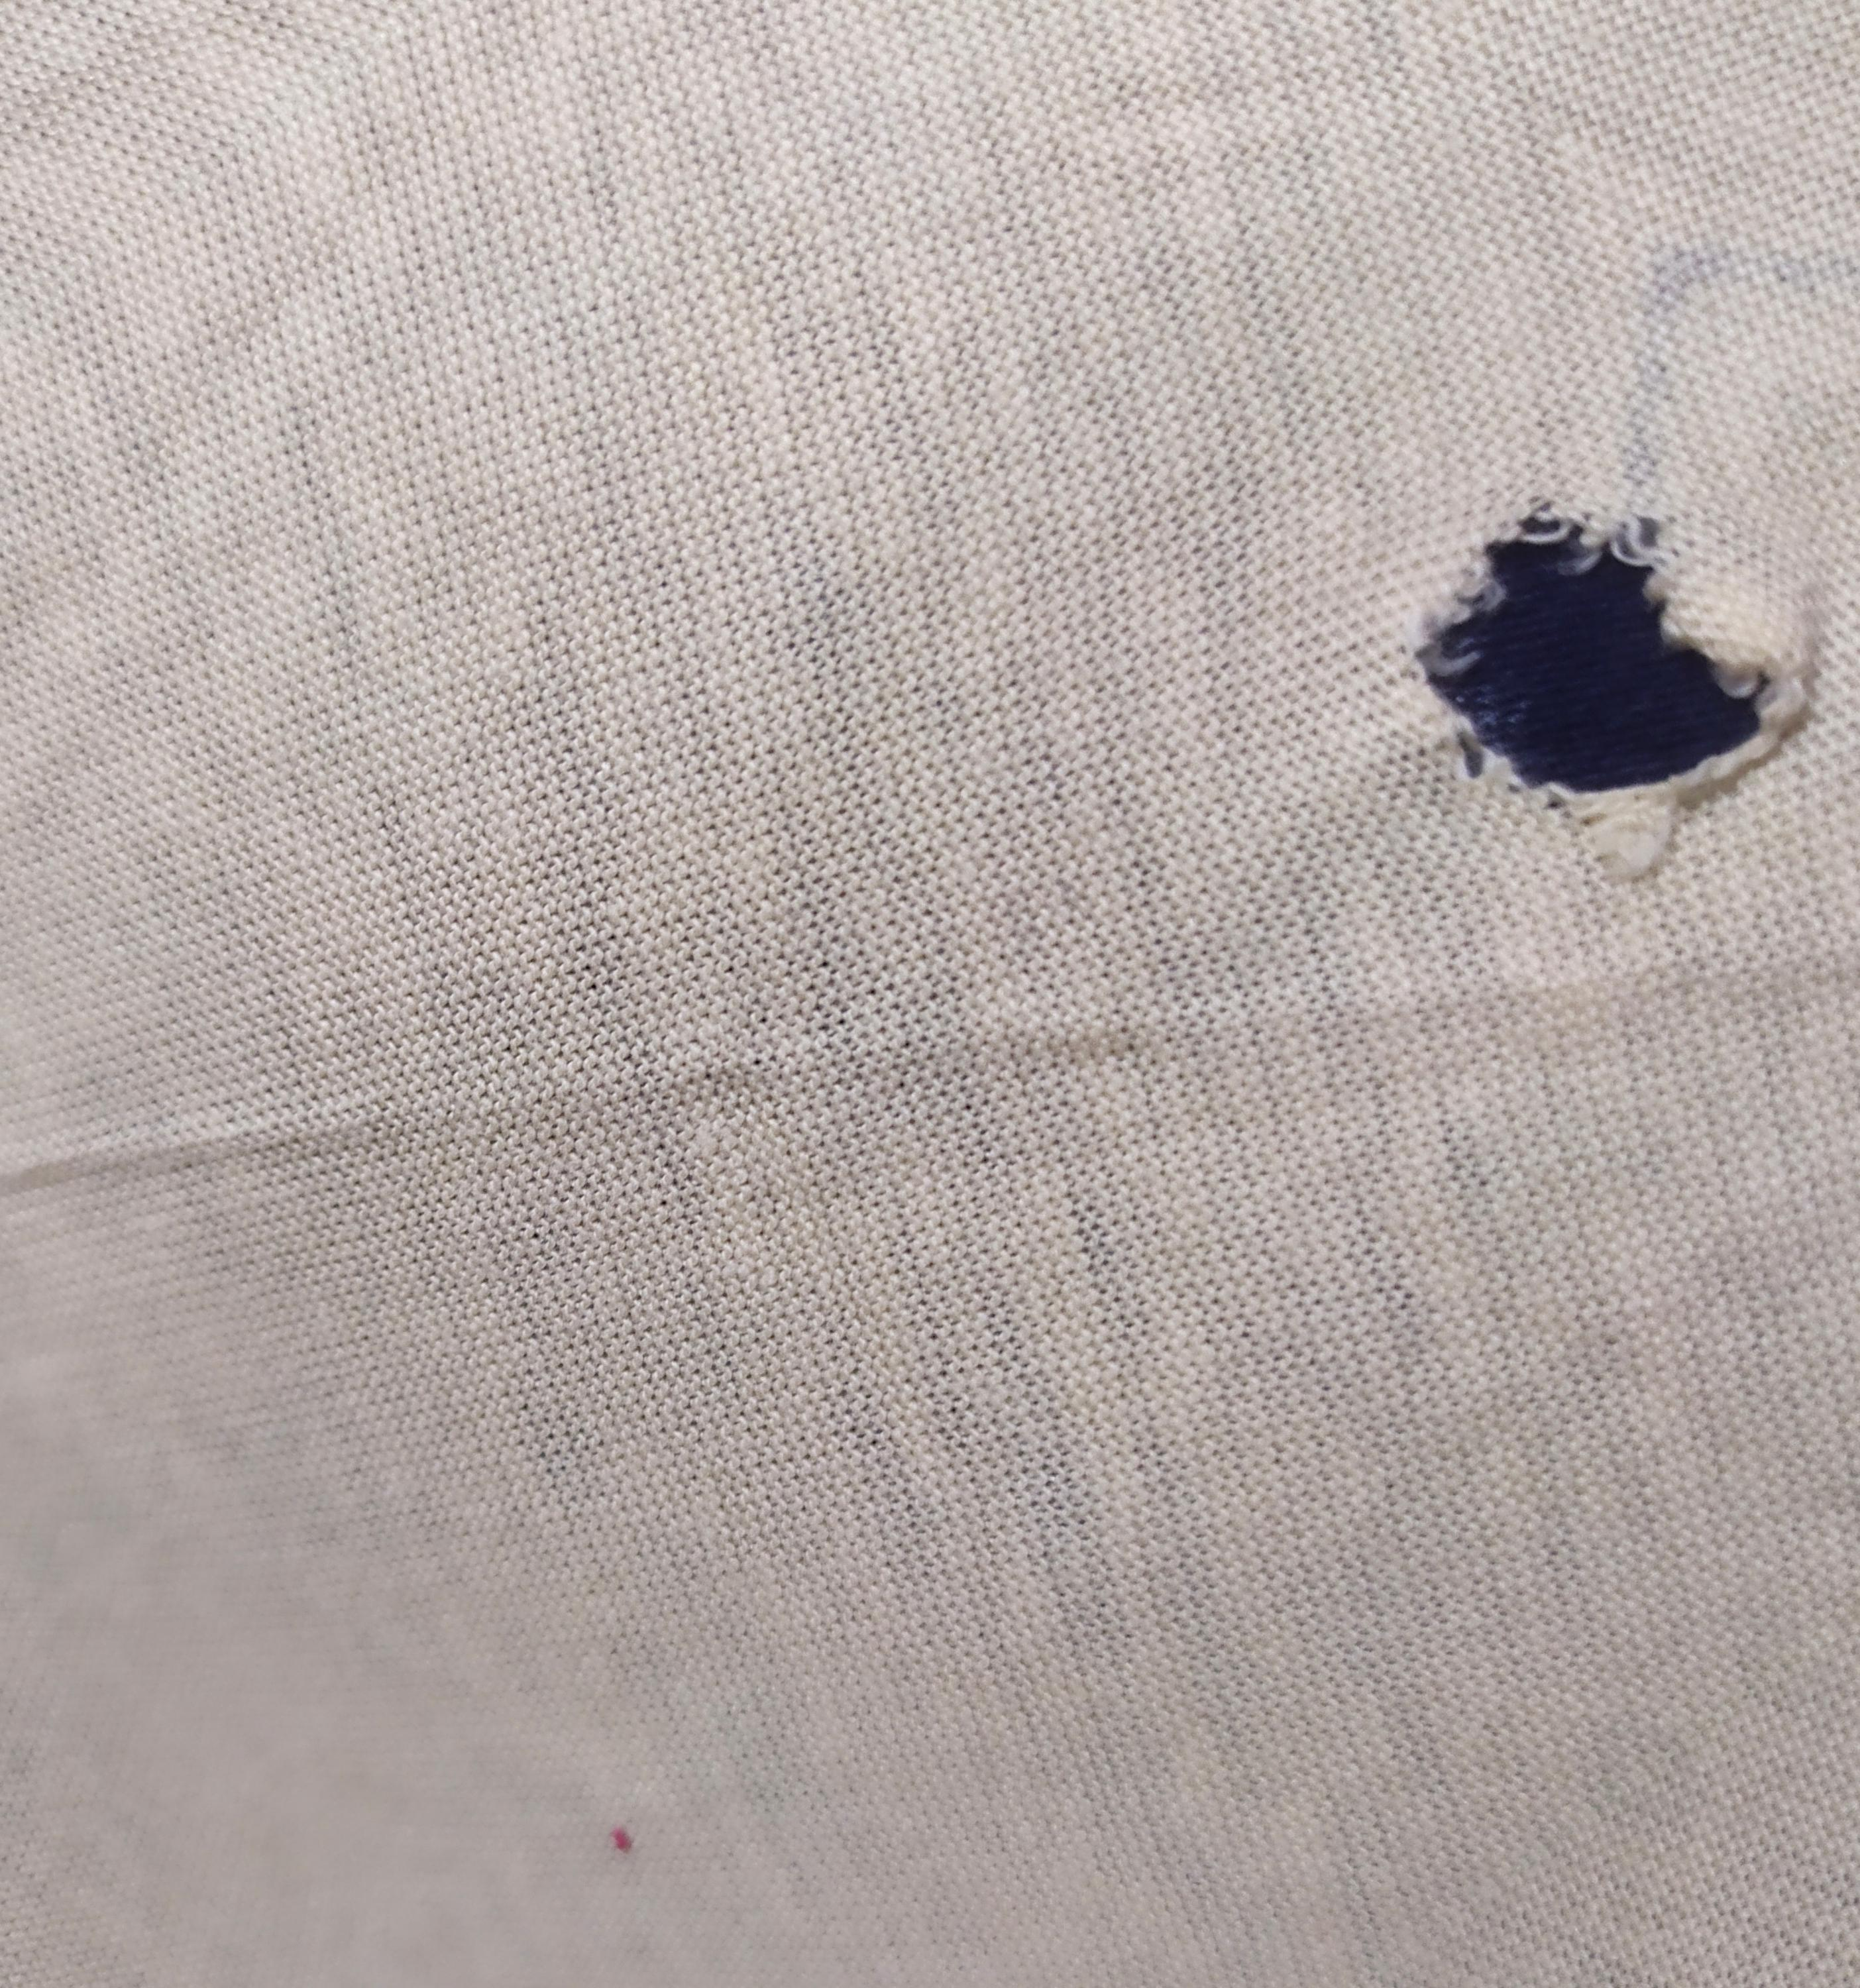hole: (1395, 481, 1820, 871)
